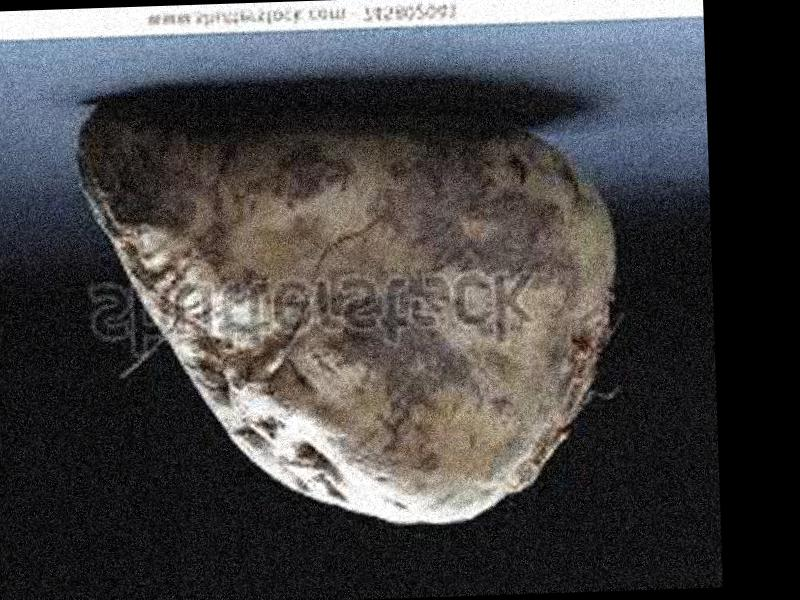Beet: (83, 92, 631, 531)
